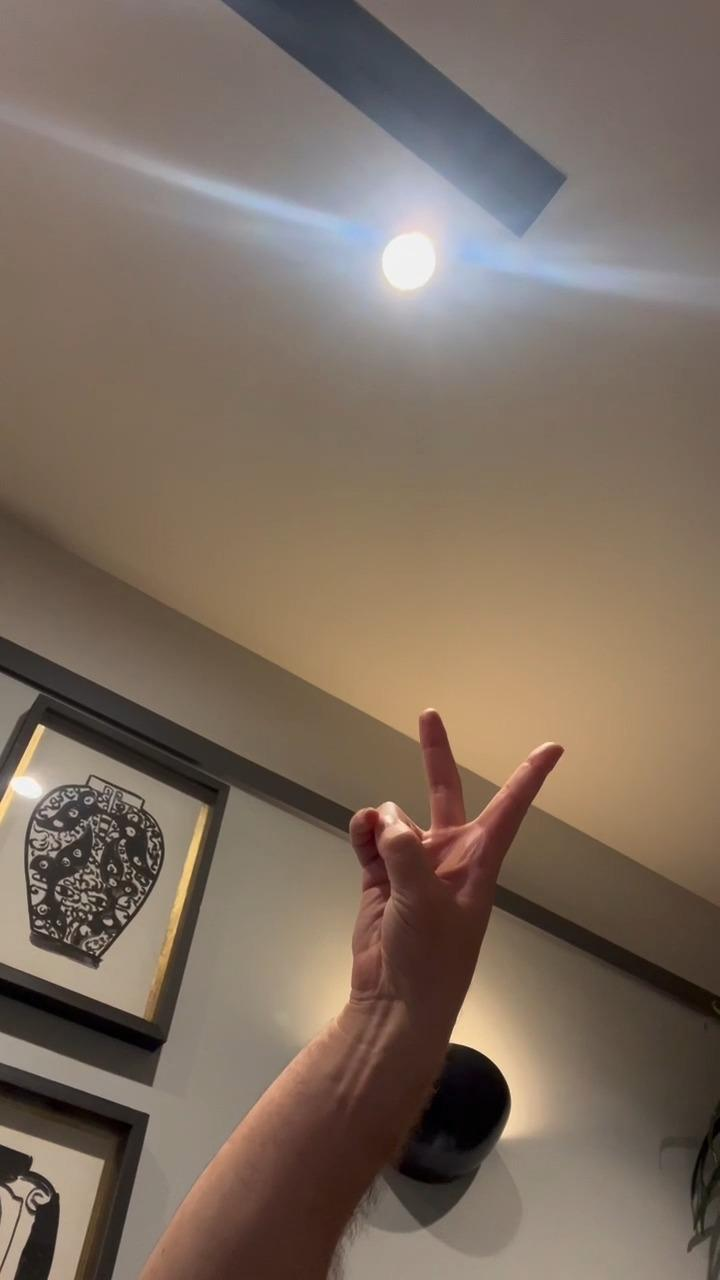Scissors: (338, 708, 570, 1011)
